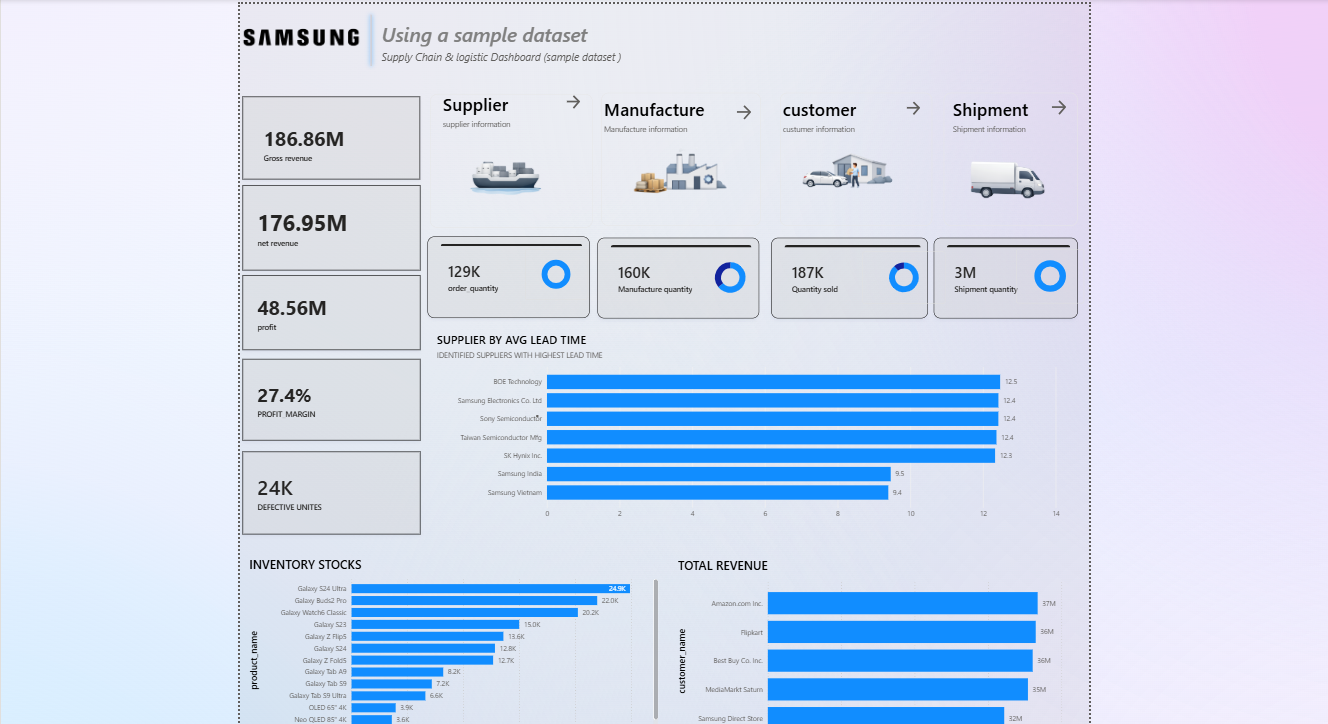

Layout of this report page (visuals, bound fields, positions):
{"tool":"powerbi","page":{"name":"Page 1","canvas":[1500,1300],"ordinal":0},"visuals":[{"type":"shape","box":[335.6,159,287,236.2],"z":0},{"type":"shape","box":[1243.9,157.1,236.4,235],"z":1000},{"type":"shape","box":[954.5,157.1,269,235],"z":2000},{"type":"shape","box":[638.6,157.1,281.2,235],"z":3000},{"type":"image","box":[362.7,260.8,208,80],"z":4000},{"type":"image","box":[678.7,204.8,188,168],"z":5000},{"type":"image","box":[986.7,208.8,180,164],"z":6000},{"type":"image","box":[1278.7,244.8,150,120],"z":7000},{"type":"actionButton","box":[1429.4,165.2,69.3,34.6],"z":8000},{"type":"actionButton","box":[873,167.2,34.6,46.9],"z":9000},{"type":"actionButton","box":[571.4,157.1,51,32.6],"z":10000},{"type":"actionButton","box":[518.5,721,51,12.2],"z":11000},{"type":"actionButton","box":[1172.6,167.2,142.7,32.6],"z":12000},{"type":"textbox","title":"Supplier ","box":[353.3,157.1,244.6,175.3],"z":13000},{"type":"textbox","title":"Manufacture","box":[638,166,268,70],"z":14000},{"type":"textbox","title":"customer","box":[954,166,246,70],"z":15000},{"type":"textbox","title":"Shipment","box":[1254,166,244,70],"z":16000},{"type":"textbox","title":" Using a sample dataset","box":[246,28,1234,106],"z":17000},{"type":"shape","box":[176,10,110,106],"z":18000},{"type":"image","box":[0,0,216.4,117],"z":19000},{"type":"cardVisual","fields":{"Data":["Sum(fact_sales.net_revenue)"]},"box":[4.8,320,314,150],"z":20000},{"type":"cardVisual","fields":{"Data":["Sum(fact_sales.gross_revenue)"]},"box":[4.8,163.6,313.9,146.7],"z":21000},{"type":"cardVisual","fields":{"Data":["measures-table.PROFIT_MARGIN"]},"box":[4.8,626,314,144],"z":22000},{"type":"cardVisual","fields":{"Data":["Sum(fact_sales.profit)"]},"box":[4.8,480,314,132],"z":23000},{"type":"cardVisual","fields":{"Data":["Sum(fact_procurement.order_quantity)"]},"box":[331.6,411.6,286,144],"z":24000},{"type":"cardVisual","fields":{"Data":["Sum(fact_inventory.stock_level)"]},"box":[631.1,412.1,285.3,142.7],"z":25000},{"type":"cardVisual","fields":{"Data":["Sum(fact_sales.quantity_sold)"]},"box":[938.8,412.1,277.2,142.7],"z":26000},{"type":"cardVisual","fields":{"Data":["Sum(fact_shipment.quantity)"]},"box":[1226.2,412.1,254.8,142.7],"z":27000},{"type":"donutChart","fields":{"Y":["Sum(fact_inventory.stock_level)","Sum(fact_inventory.safety_stock_level)"]},"box":[792.1,436.6,146.7,91.7],"z":28000},{"type":"donutChart","fields":{"Y":["Sum(fact_sales.quantity_sold)","Sum(fact_production.defective_units)"]},"box":[1099.8,436.6,146.7,91.7],"z":29000},{"type":"donutChart","fields":{"Y":["Sum(fact_shipment.quantity)"]},"box":[1370.9,432.5,120.2,95.8],"z":30000},{"type":"donutChart","fields":{"Y":["Sum(fact_procurement.order_quantity)"]},"box":[502.7,432.5,110,89.7],"z":31000},{"type":"clusteredBarChart","title":"SUPPLIER BY AVG LEAD TIME ","fields":{"Y":["measures-table.AVG_LEAD-TIME"],"Category":["dim_supplier.supplier_name"]},"box":[336,568,1144,376],"z":32000},{"type":"clusteredBarChart","title":"INVENTORY STOCKS","fields":{"Y":["measures-table.INVENTORY_VALUE"],"Category":["dim_product.product_name"]},"box":[4,962,746,376],"z":33000},{"type":"clusteredBarChart","title":"TOTAL REVENUE","fields":{"Y":["Sum(fact_sales.net_revenue)"],"Category":["dim_customer.customer_name"]},"box":[762,964,718,374],"z":34000},{"type":"map","title":" SUPPLIER COUNTRY","fields":{"Category":["dim_supplier.country"]},"box":[0,1338,1498,262],"z":35000},{"type":"cardVisual","fields":{"Data":["Sum(fact_production.defective_units)"]},"box":[4.8,790,314,146],"z":36000}]}

Visuals, with their boxes on the page's 1500x1300 design canvas (x1, y1, x2, y2). These are canvas units, not pixel positions in the 1328x724 screenshot, which may show the page scaled, cropped or inside an application window:
shape: [left=336, top=159, right=623, bottom=395]
shape: [left=1244, top=157, right=1480, bottom=392]
shape: [left=954, top=157, right=1224, bottom=392]
shape: [left=639, top=157, right=920, bottom=392]
image: [left=363, top=261, right=571, bottom=341]
image: [left=679, top=205, right=867, bottom=373]
image: [left=987, top=209, right=1167, bottom=373]
image: [left=1279, top=245, right=1429, bottom=365]
actionButton: [left=1429, top=165, right=1499, bottom=200]
actionButton: [left=873, top=167, right=908, bottom=214]
actionButton: [left=571, top=157, right=622, bottom=190]
actionButton: [left=518, top=721, right=570, bottom=733]
actionButton: [left=1173, top=167, right=1315, bottom=200]
"Supplier " textbox: [left=353, top=157, right=598, bottom=332]
"Manufacture" textbox: [left=638, top=166, right=906, bottom=236]
"customer" textbox: [left=954, top=166, right=1200, bottom=236]
"Shipment" textbox: [left=1254, top=166, right=1498, bottom=236]
" Using a sample dataset" textbox: [left=246, top=28, right=1480, bottom=134]
shape: [left=176, top=10, right=286, bottom=116]
image: [left=0, top=0, right=216, bottom=117]
cardVisual - Sum(fact_sales.net_revenue): [left=5, top=320, right=319, bottom=470]
cardVisual - Sum(fact_sales.gross_revenue): [left=5, top=164, right=319, bottom=310]
cardVisual - measures-table.PROFIT_MARGIN: [left=5, top=626, right=319, bottom=770]
cardVisual - Sum(fact_sales.profit): [left=5, top=480, right=319, bottom=612]
cardVisual - Sum(fact_procurement.order_quantity): [left=332, top=412, right=618, bottom=556]
cardVisual - Sum(fact_inventory.stock_level): [left=631, top=412, right=916, bottom=555]
cardVisual - Sum(fact_sales.quantity_sold): [left=939, top=412, right=1216, bottom=555]
cardVisual - Sum(fact_shipment.quantity): [left=1226, top=412, right=1481, bottom=555]
donutChart - Sum(fact_inventory.stock_level) x Sum(fact_inventory.safety_stock_level): [left=792, top=437, right=939, bottom=528]
donutChart - Sum(fact_sales.quantity_sold) x Sum(fact_production.defective_units): [left=1100, top=437, right=1246, bottom=528]
donutChart - Sum(fact_shipment.quantity): [left=1371, top=432, right=1491, bottom=528]
donutChart - Sum(fact_procurement.order_quantity): [left=503, top=432, right=613, bottom=522]
"SUPPLIER BY AVG LEAD TIME " clusteredBarChart: [left=336, top=568, right=1480, bottom=944]
"INVENTORY STOCKS" clusteredBarChart: [left=4, top=962, right=750, bottom=1338]
"TOTAL REVENUE" clusteredBarChart: [left=762, top=964, right=1480, bottom=1338]
" SUPPLIER COUNTRY" map: [left=0, top=1338, right=1498, bottom=1600]
cardVisual - Sum(fact_production.defective_units): [left=5, top=790, right=319, bottom=936]
